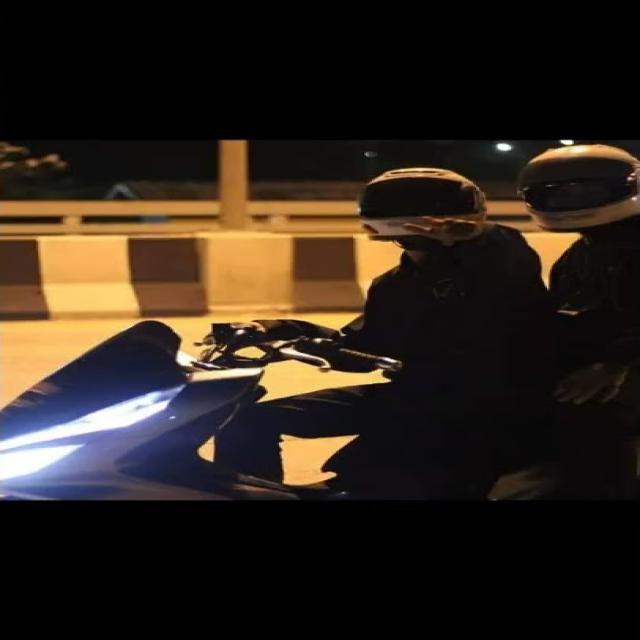helmet: (512, 124, 640, 236), (354, 159, 498, 245)
